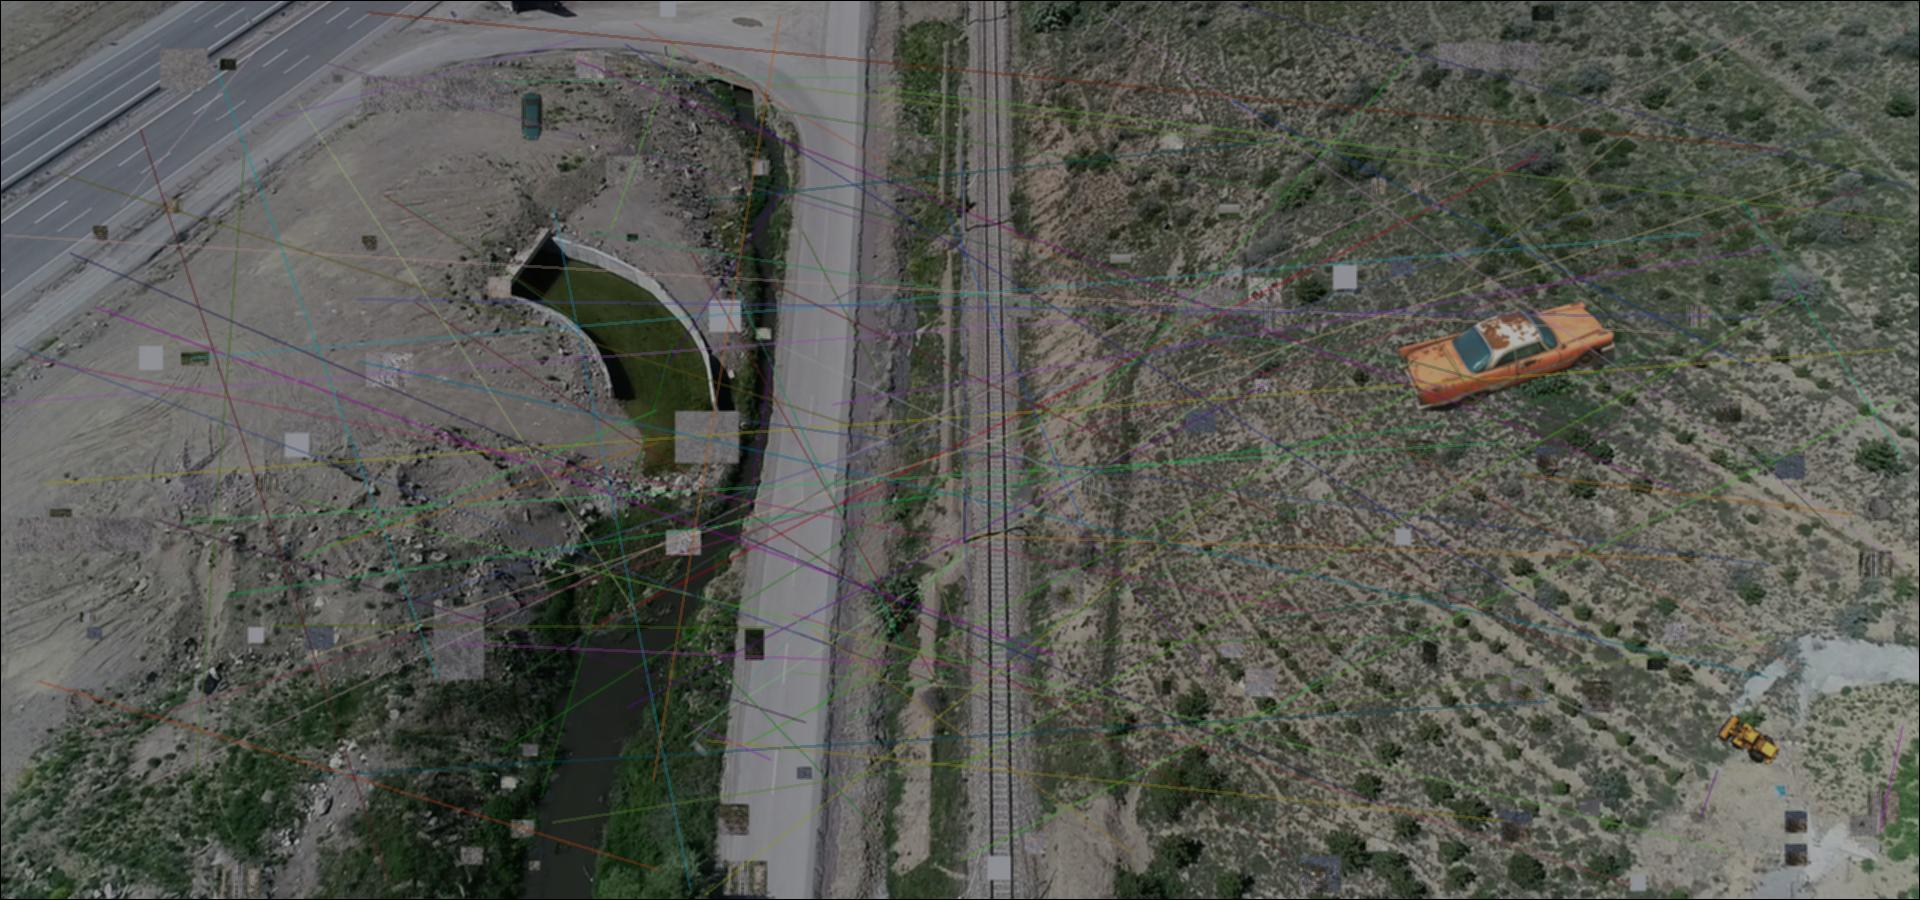arac: (1384, 298, 1629, 411), (1716, 715, 1784, 765), (520, 92, 544, 142)
